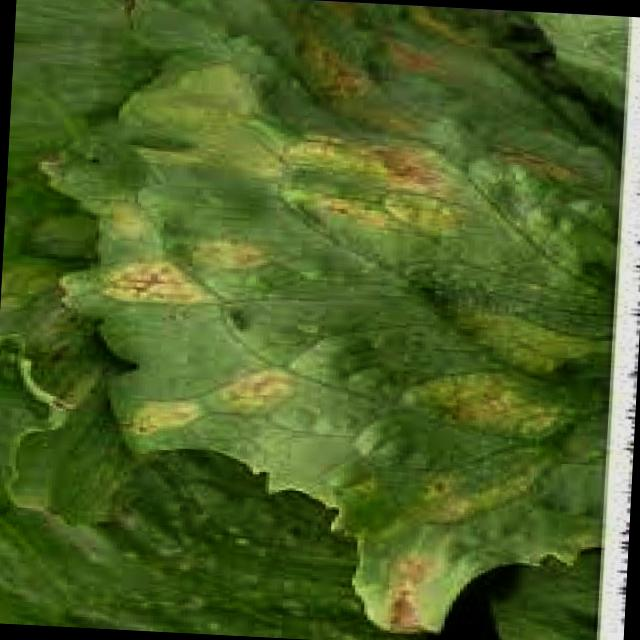Downy_mildew: (19, 23, 596, 640)
